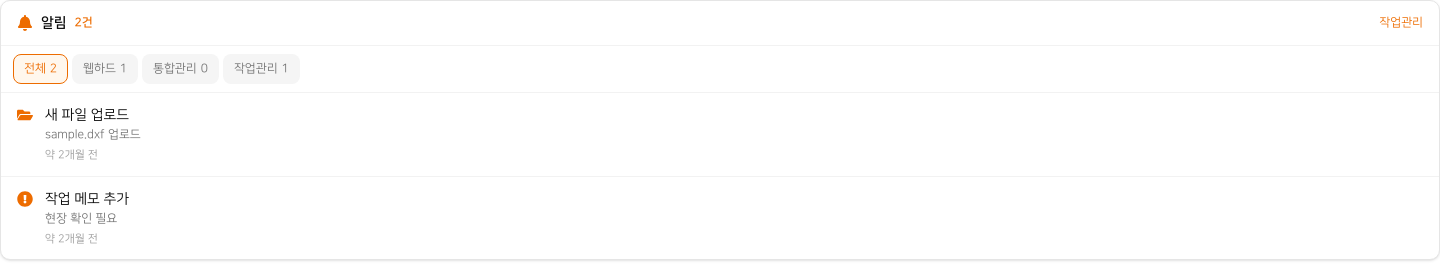
Test: AdminDashboardNotifications › 대시보드에서 알림을 카테고리별로 전환해 볼 수 있다
Check: the heading "알림" is shown, box [41,13,66,33]
Check: the text "새 파일 업로드" is shown, box [45,107,129,122]
Click the button "웹하드1". click: (105, 69)
box: [72,54,138,84]
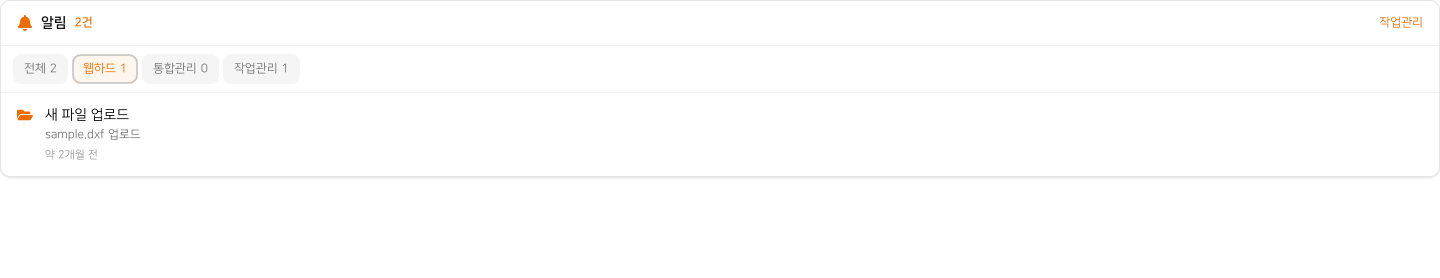
Check: the text "새 파일 업로드" is shown, box [45,107,129,122]
Check: the link "작업 메모 추가" is gone
